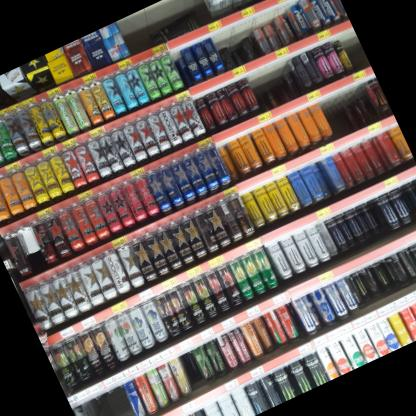empty_space: (319, 88, 357, 134), (122, 2, 166, 37), (246, 59, 284, 90), (338, 26, 366, 61), (106, 382, 134, 416), (95, 390, 122, 416), (162, 0, 200, 18), (81, 396, 110, 416)
